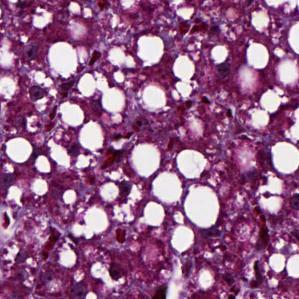steatosis: (182, 183, 221, 227), (45, 42, 80, 78), (128, 143, 162, 176), (154, 177, 187, 198)
